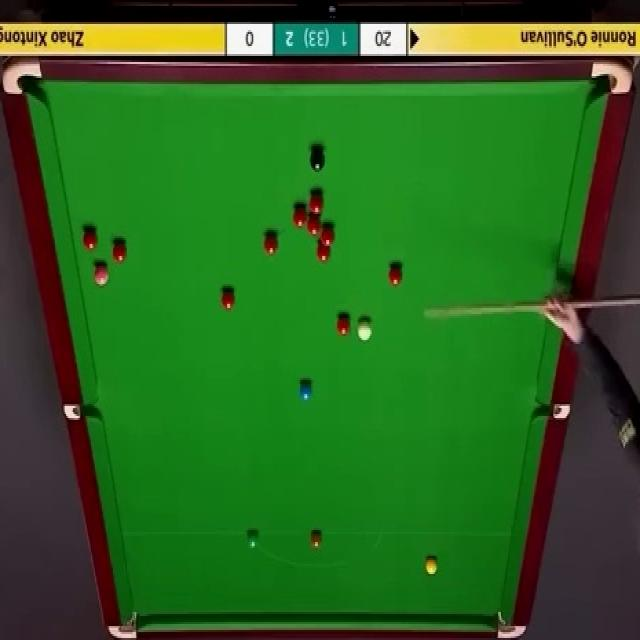black-ball: (308, 140, 326, 173)
blue-ball: (298, 381, 312, 402)
brown-ball: (310, 530, 324, 550)
green-ball: (244, 530, 260, 549)
pink-ball: (93, 266, 109, 285)
red-ball: (309, 190, 323, 217), (220, 290, 237, 312), (111, 242, 128, 264), (82, 228, 98, 251), (336, 314, 351, 338), (388, 264, 403, 287), (296, 210, 311, 232), (317, 242, 331, 264), (264, 232, 278, 254), (320, 229, 336, 247), (308, 215, 321, 237)
white-ball: (357, 316, 373, 341)
yellow-ball: (426, 554, 438, 575)
